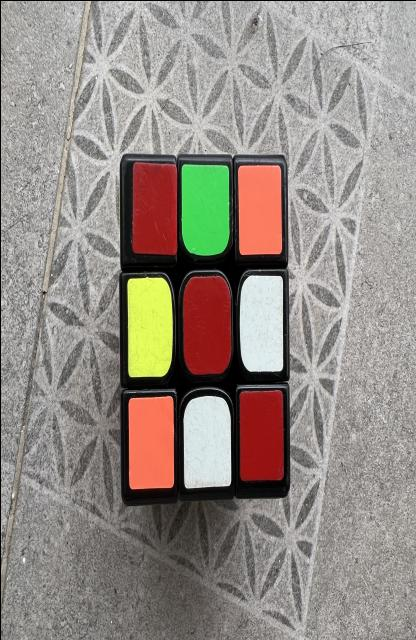Green: (180, 163, 228, 255)
Orange: (128, 395, 173, 488), (237, 163, 281, 255)
Red: (182, 275, 231, 373), (132, 162, 176, 255), (239, 388, 283, 480)
White: (183, 395, 231, 488), (239, 275, 282, 372)
Yellow: (127, 277, 171, 377)
